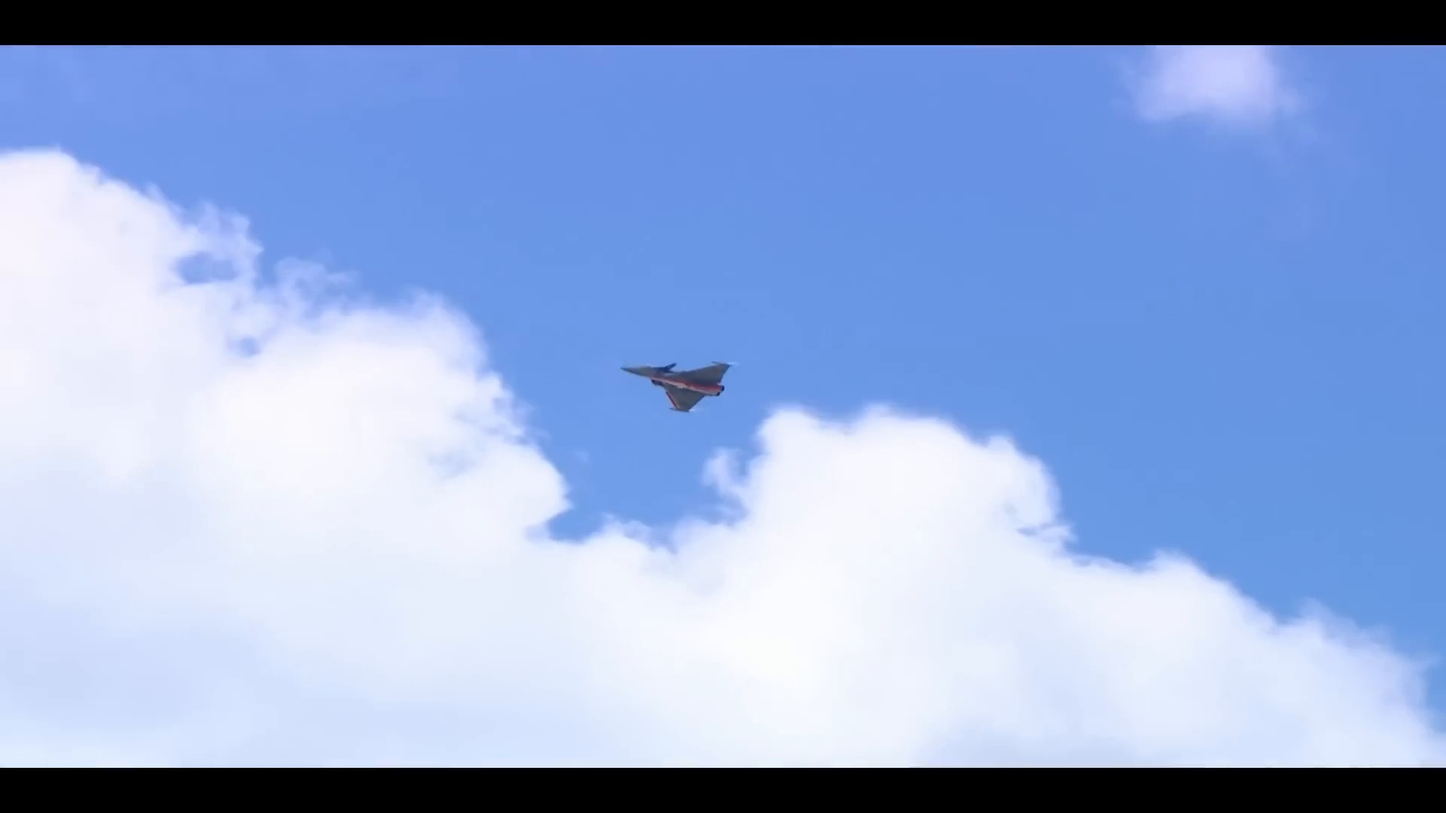Rafale: (618, 357, 741, 415)
